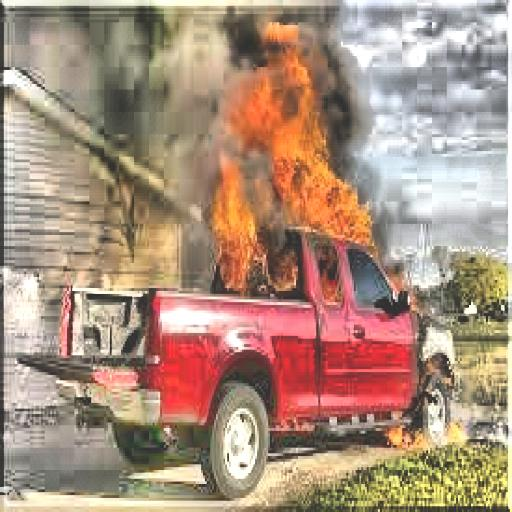fire: (207, 25, 415, 311)
